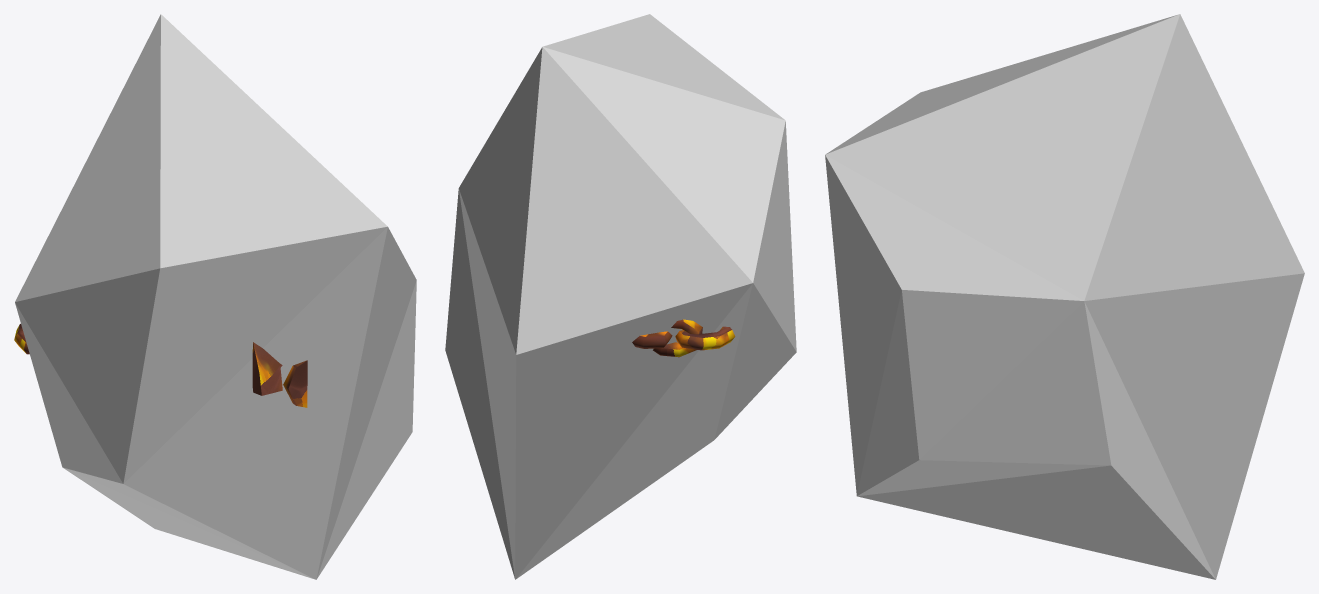
The model's file is Stone-Simple.fbx.
The picture shows the model from 3 angles, left to right: view 1: azimuth 30°, elevation 25°; view 2: azimuth 150°, elevation 25°; view 3: azimuth 270°, elevation 25°; orthographic projection. The views are drawn at different scales.
Parts seen in each view (by area): view 1: Stone-Simple, trap; view 2: Stone-Simple, trap; view 3: Stone-Simple.
Boxes of the visible parts, left/top/right/bottom form: Stone-Simple: left=15, top=14, right=416, bottom=579; trap: left=14, top=323, right=307, bottom=407; Stone-Simple: left=445, top=14, right=796, bottom=579; trap: left=632, top=319, right=735, bottom=357; Stone-Simple: left=825, top=14, right=1304, bottom=579.
Bounding box in the file's own units: 9144 × 14908 × 11568.
